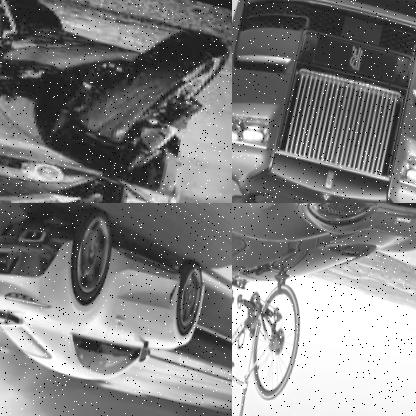car: (0, 203, 213, 404), (232, 0, 416, 203), (232, 203, 416, 323)
